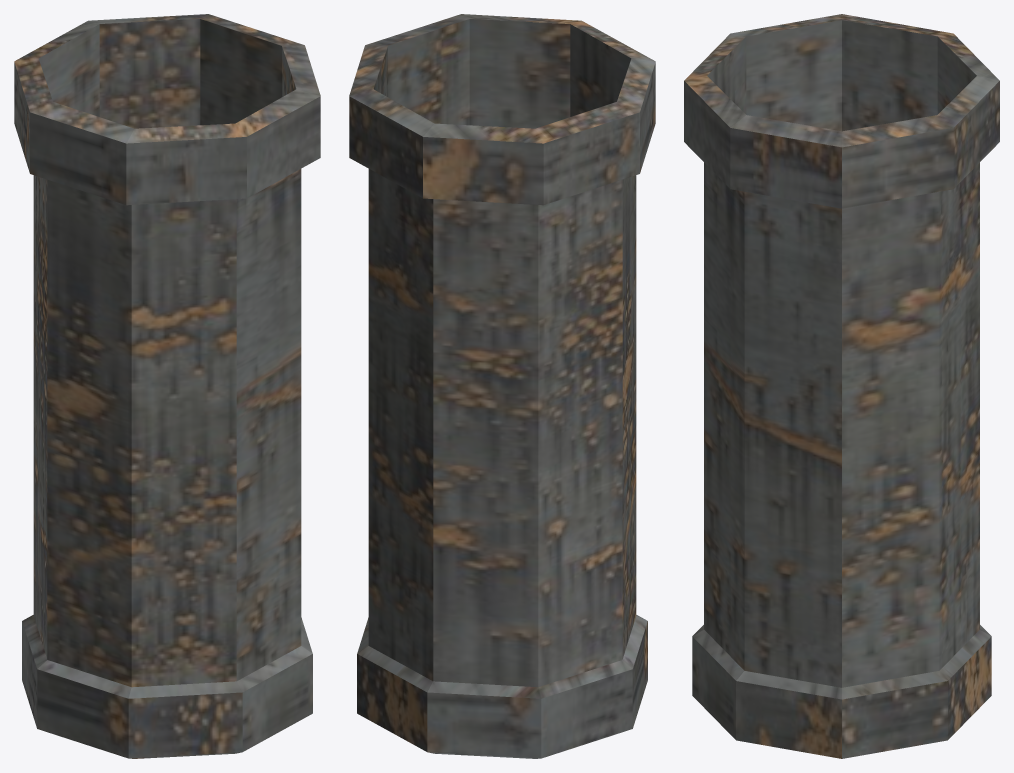
File: kerning_big_pipe_1.gltf
The picture shows the model from 3 angles, left to right: view 1: azimuth 30°, elevation 25°; view 2: azimuth 150°, elevation 25°; view 3: azimuth 270°, elevation 25°; orthographic projection.
Parts seen in each view (by area): view 1: BigPipe; view 2: BigPipe; view 3: BigPipe.
Part boxes in pixels (box(x1,y1,x2,y2)): BigPipe: box(14, 14, 320, 758); BigPipe: box(349, 14, 655, 758); BigPipe: box(684, 14, 999, 758).
Bounding box in the file's own units: 2.29 × 5.02 × 2.29.
1 material, 1 textured.
